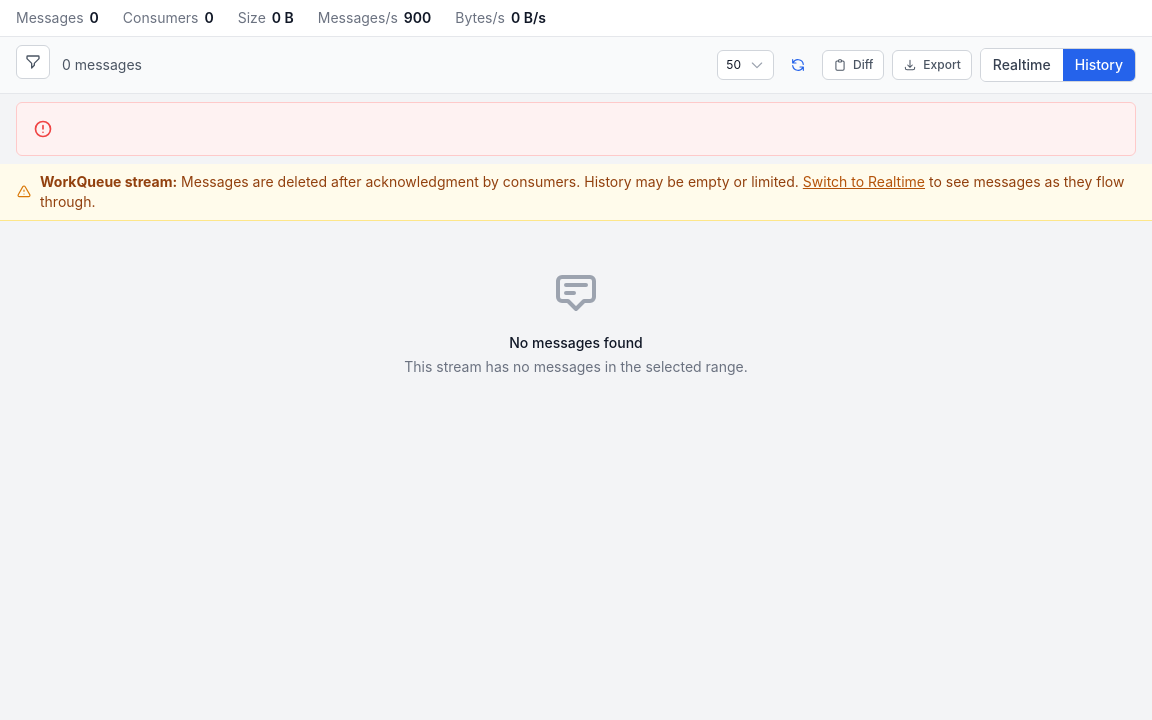
Test case: UnifiedMessageList search states › hides a list error from before the search
Step 1. Click the button named "filters" → (33, 62), box [16, 45, 50, 79]
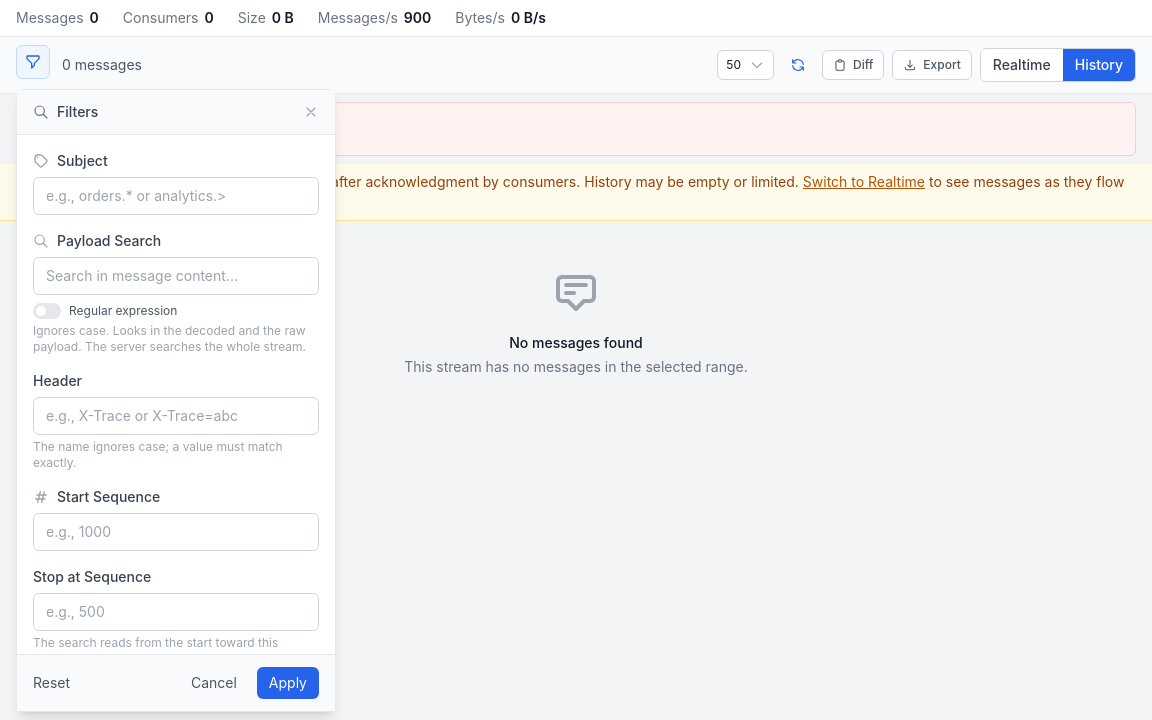
Step 2. Type "needle" into the field labelled "Payload Search" → (176, 276), box [33, 257, 319, 295]
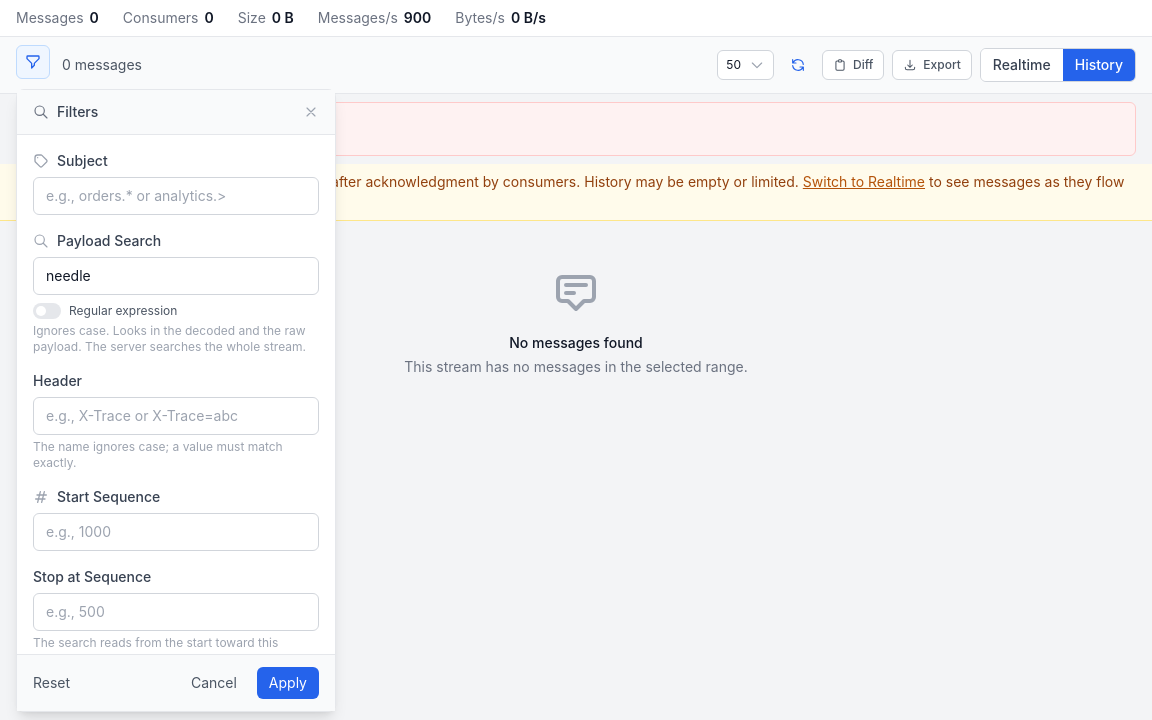
Step 3. Click the button "Apply" → (288, 683), box [257, 667, 319, 699]
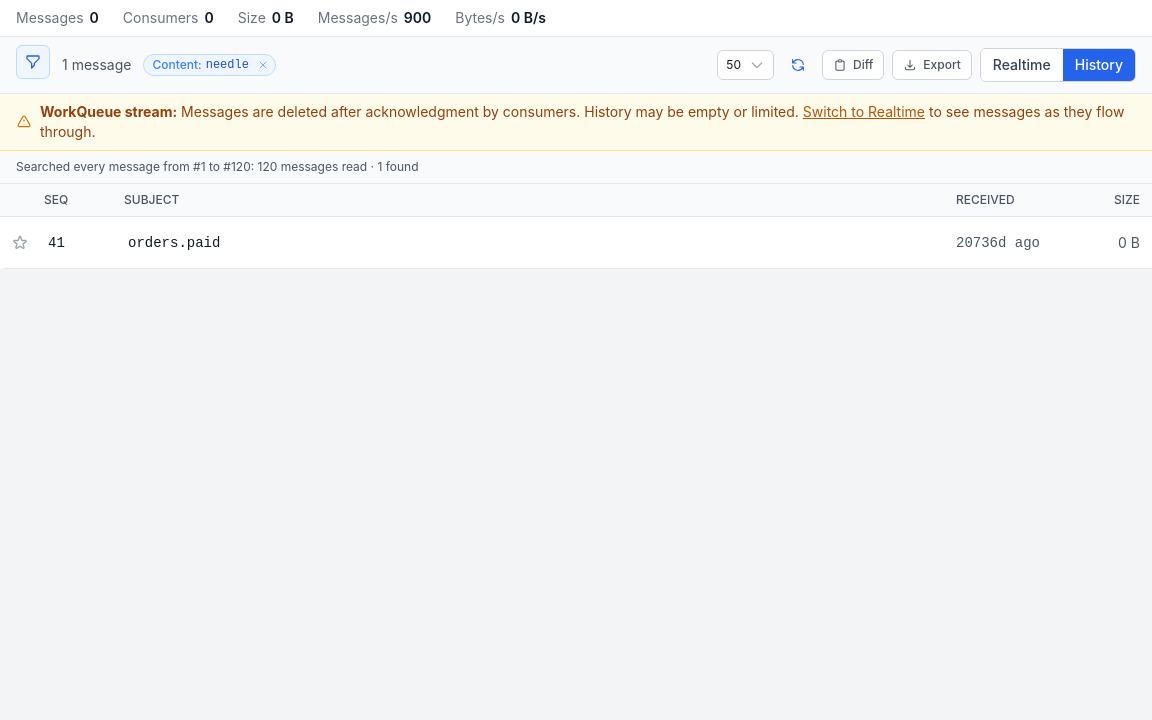
expect the element with test id "search-status" is shown: met, box [0, 151, 1151, 184]
